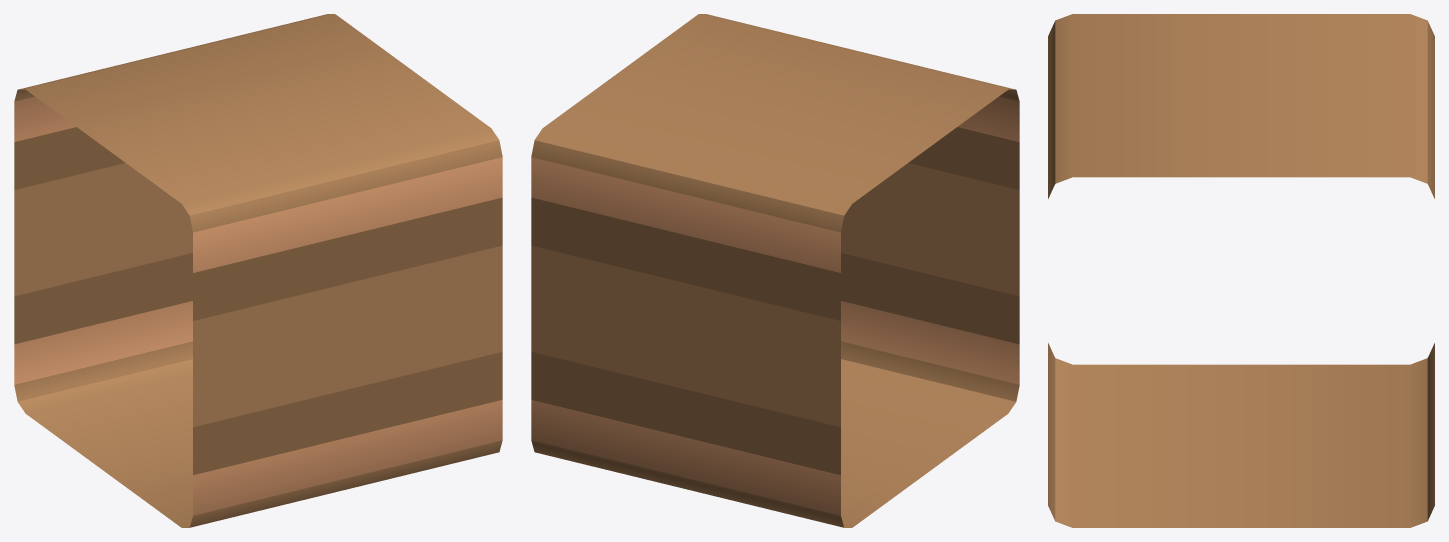
File: Cube_Dirt_1x1Center.gltf
3 renders of one model, left to right at view 1: azimuth 30°, elevation 25°; view 2: azimuth 150°, elevation 25°; view 3: azimuth 270°, elevation 25°, orthographic. The views are drawn at different scales.
Visible parts, largest first — view 1: Cube_Dirt_1x1Center; view 2: Cube_Dirt_1x1Center; view 3: Cube_Dirt_1x1Center.
Part boxes in pixels (x1,y1,x2,y2): Cube_Dirt_1x1Center: (14, 14, 502, 527); Cube_Dirt_1x1Center: (531, 14, 1019, 527); Cube_Dirt_1x1Center: (1048, 14, 1434, 527).
Size of the model in its own units: 2 by 2 by 2.
